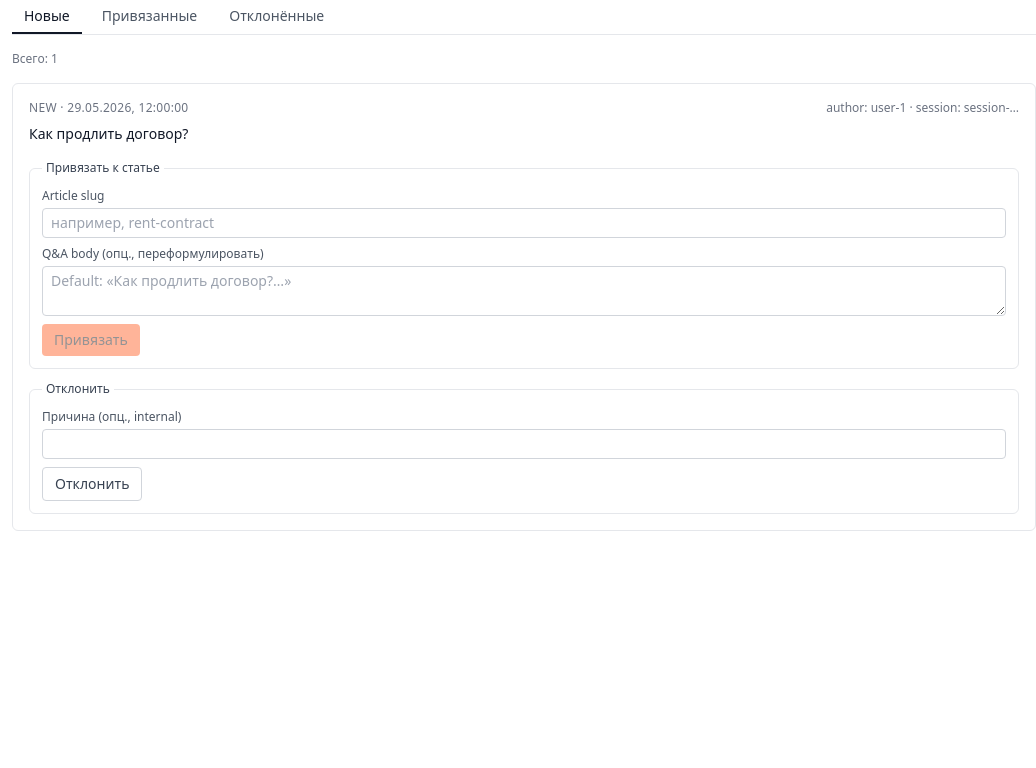
Scenario: UnansweredModerationPanel › attach disabled until article slug provided
Check: the button "Привязать" is disabled, box [42,324,140,356]
Type "x" into the field labelled "Article slug" at (524,223), box [42,208,1006,238]
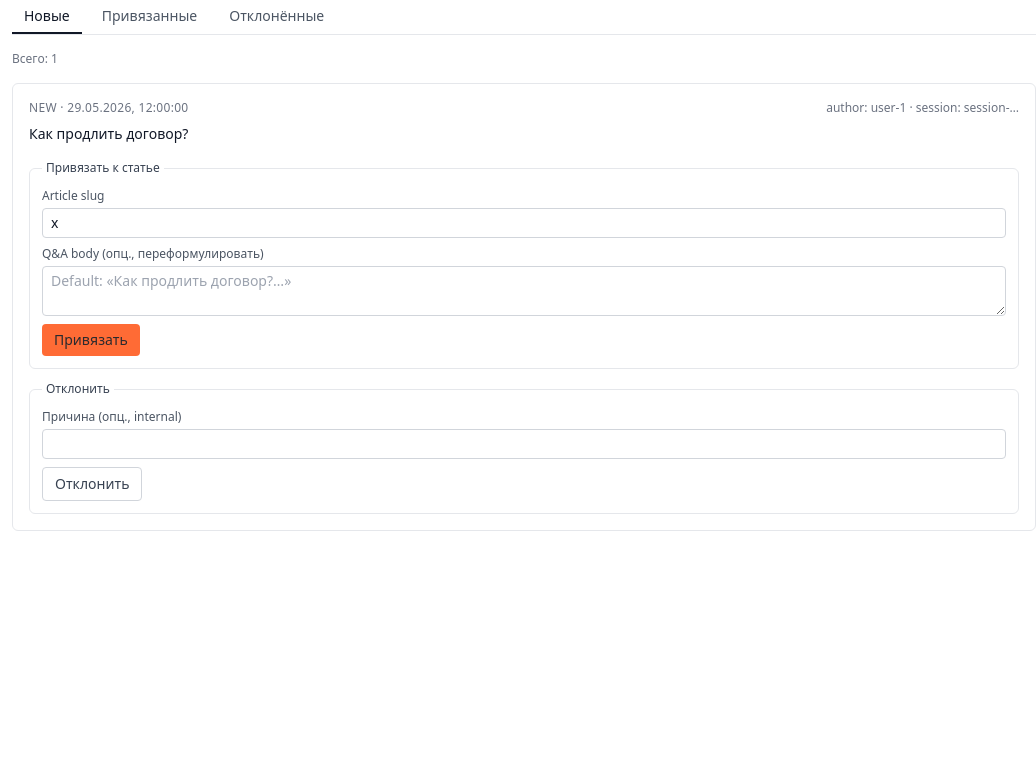
Check: the button "Привязать" is enabled, box [42,324,140,356]
